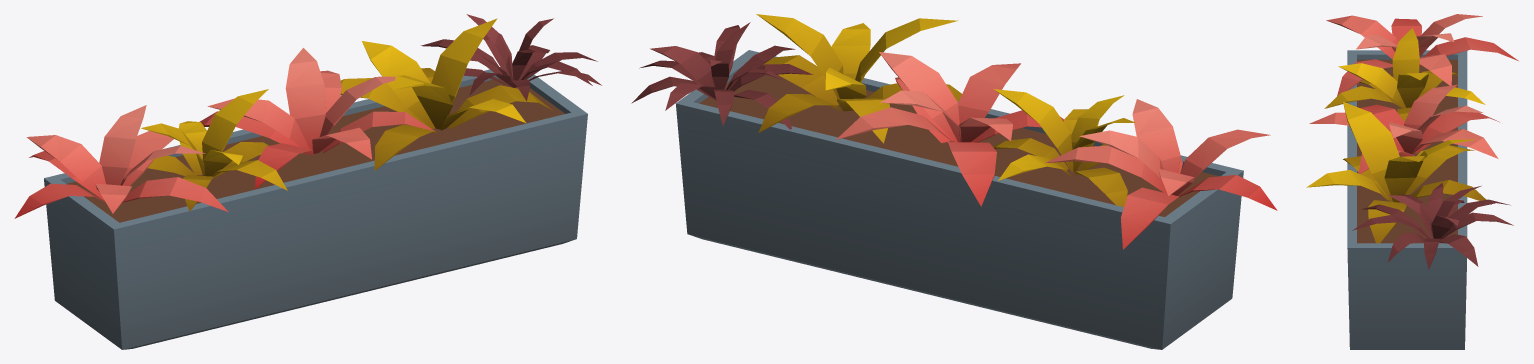
File: SM_Nature_Flowerbed_04.fbx
3 renders of one model, left to right at view 1: azimuth 30°, elevation 25°; view 2: azimuth 150°, elevation 25°; view 3: azimuth 270°, elevation 25°, orthographic. The views are drawn at different scales.
Parts seen in each view (by area): view 1: SM_Nature_Flowerbed_04; view 2: SM_Nature_Flowerbed_04; view 3: SM_Nature_Flowerbed_04.
Boxes of the visible parts, x1,y1,x2,y2 form: SM_Nature_Flowerbed_04: (14,14,601,349); SM_Nature_Flowerbed_04: (631,14,1277,349); SM_Nature_Flowerbed_04: (1306,14,1518,349).
Bounding box in the file's own units: 248 × 80.86 × 89.75.
